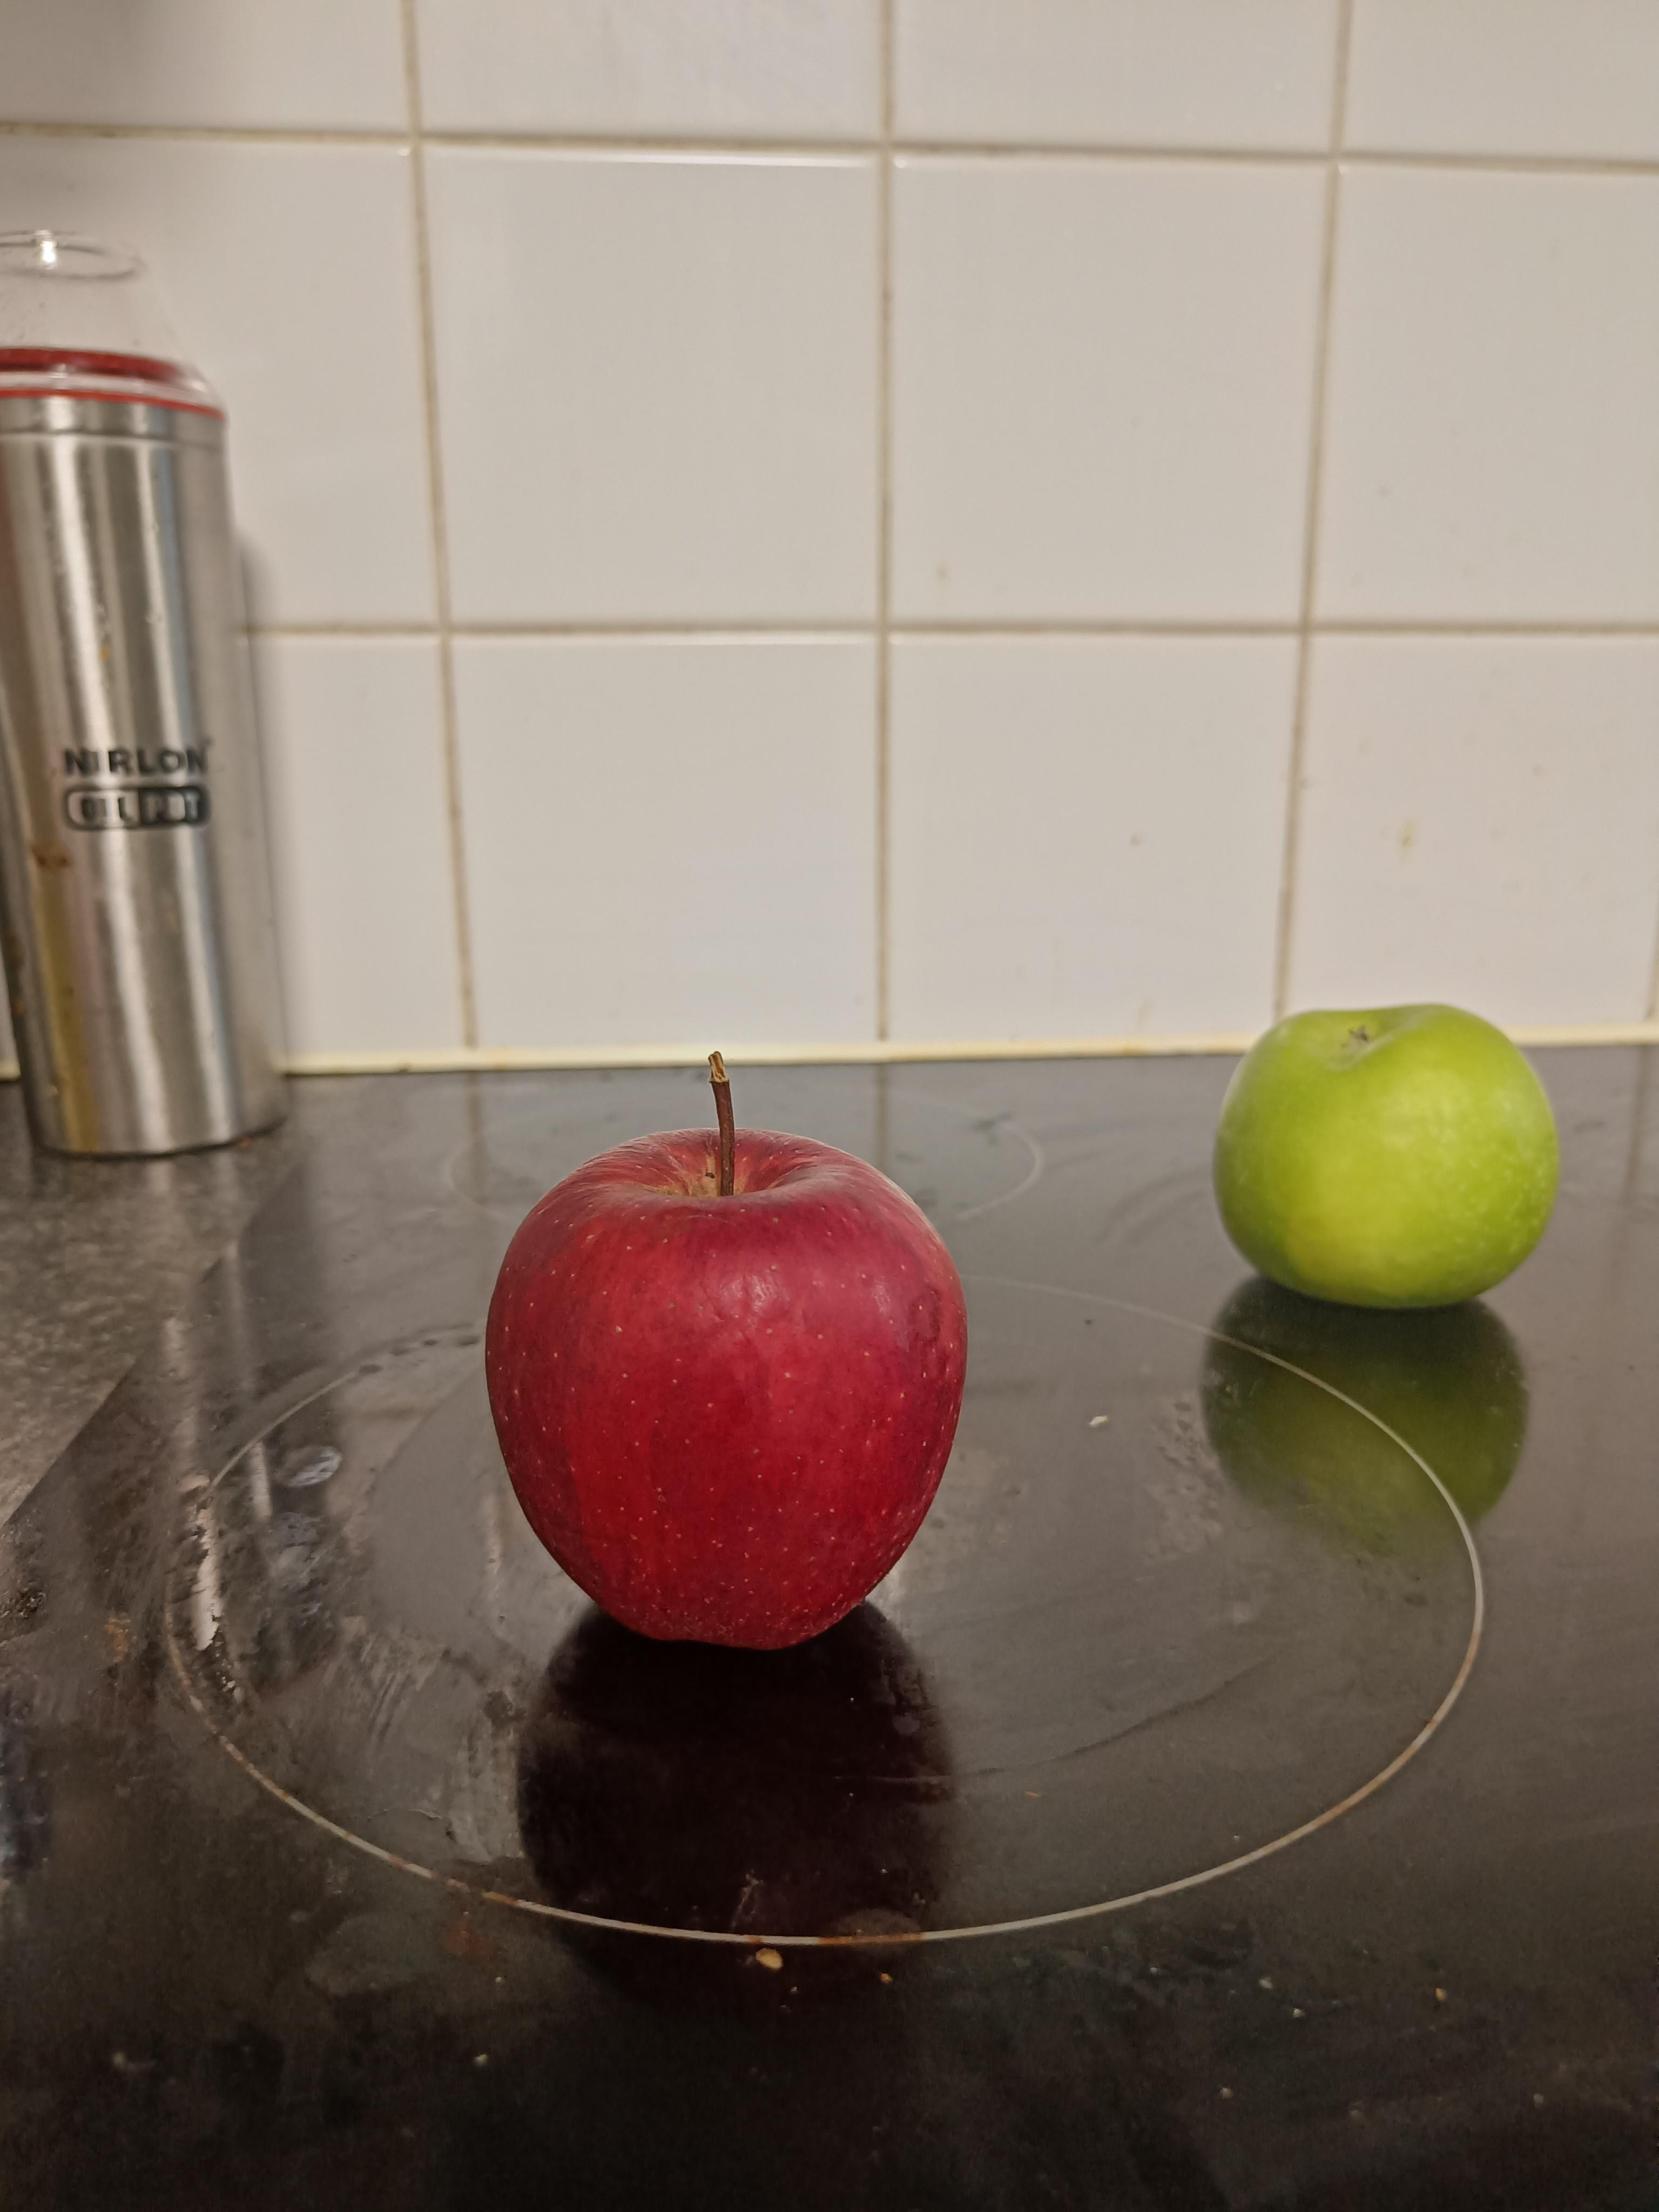Apple: (436, 996, 1026, 1679), (1223, 958, 1563, 1339)
